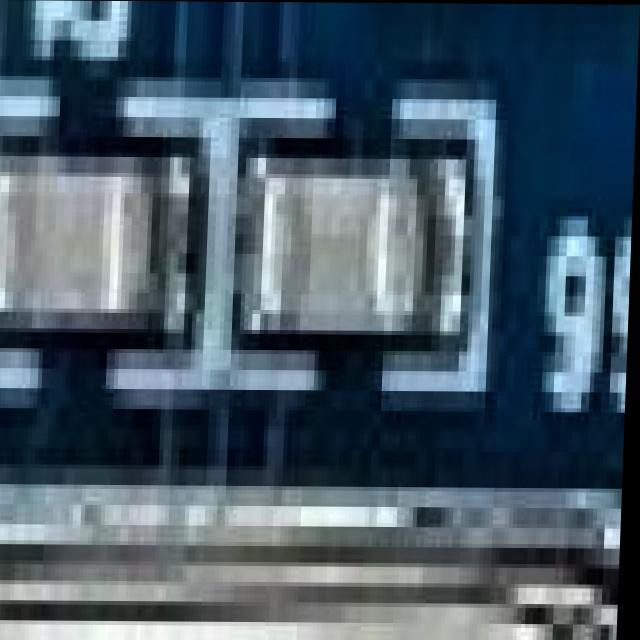capacitor: (228, 153, 456, 351), (0, 156, 175, 341)
clock: (0, 524, 625, 640)
